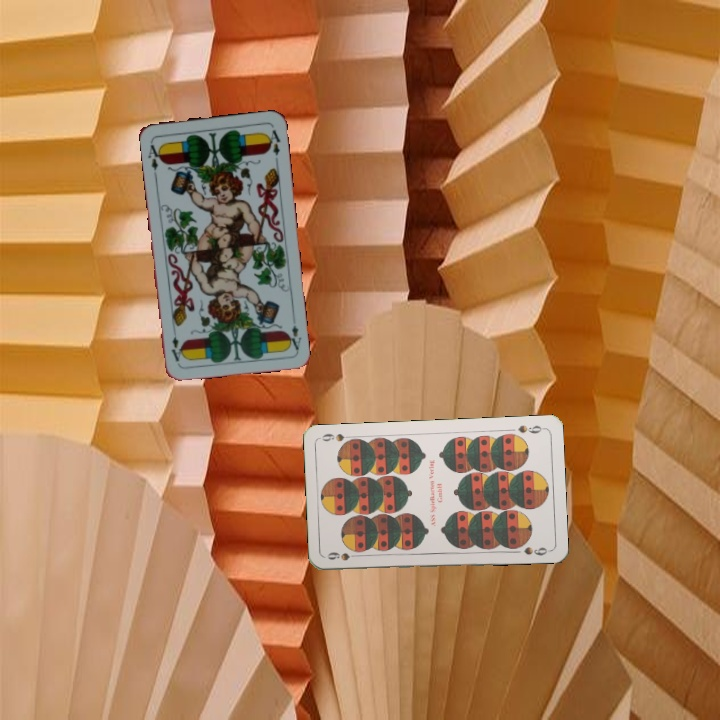EA: (144, 137, 165, 178), (284, 321, 304, 352)
S9: (323, 548, 364, 563), (514, 421, 547, 436)
